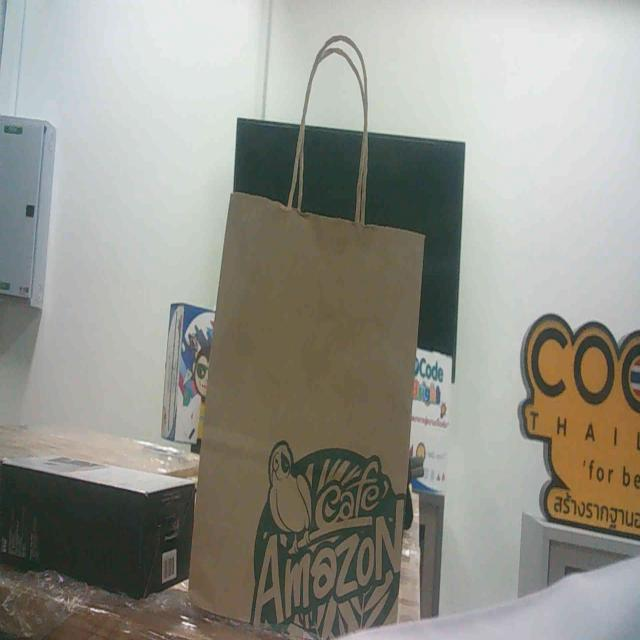bag: (191, 143, 415, 640)
